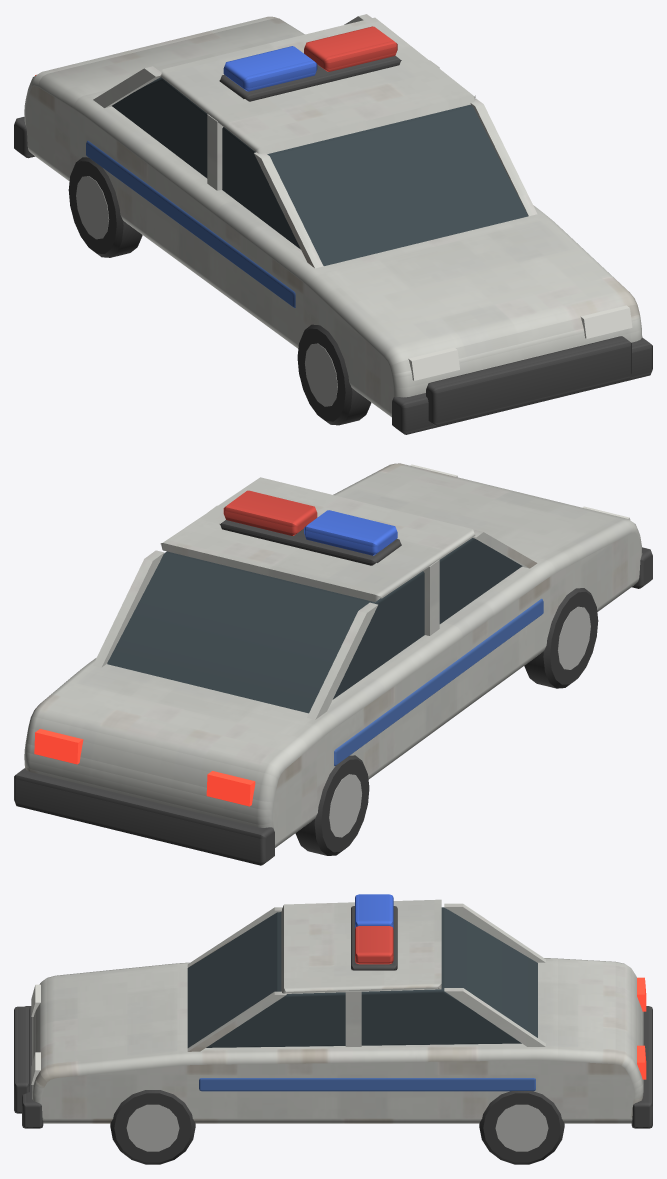
Rendered from police.glb.
3 views of the same model, one above another, from view 1: azimuth 30°, elevation 25°; view 2: azimuth 150°, elevation 25°; view 3: azimuth 270°, elevation 25° (orthographic). The views are drawn at different scales.
Visible parts, largest first — view 1: model; view 2: model; view 3: model.
Boxes of the visible parts, box(x1,y1,x2,y2) form: model: box(14, 14, 652, 434); model: box(14, 463, 652, 865); model: box(14, 894, 652, 1164).
Size of the model in its own units: 1.76 by 1.6 by 4.78.
Materials: 10 (1 with a texture image).
